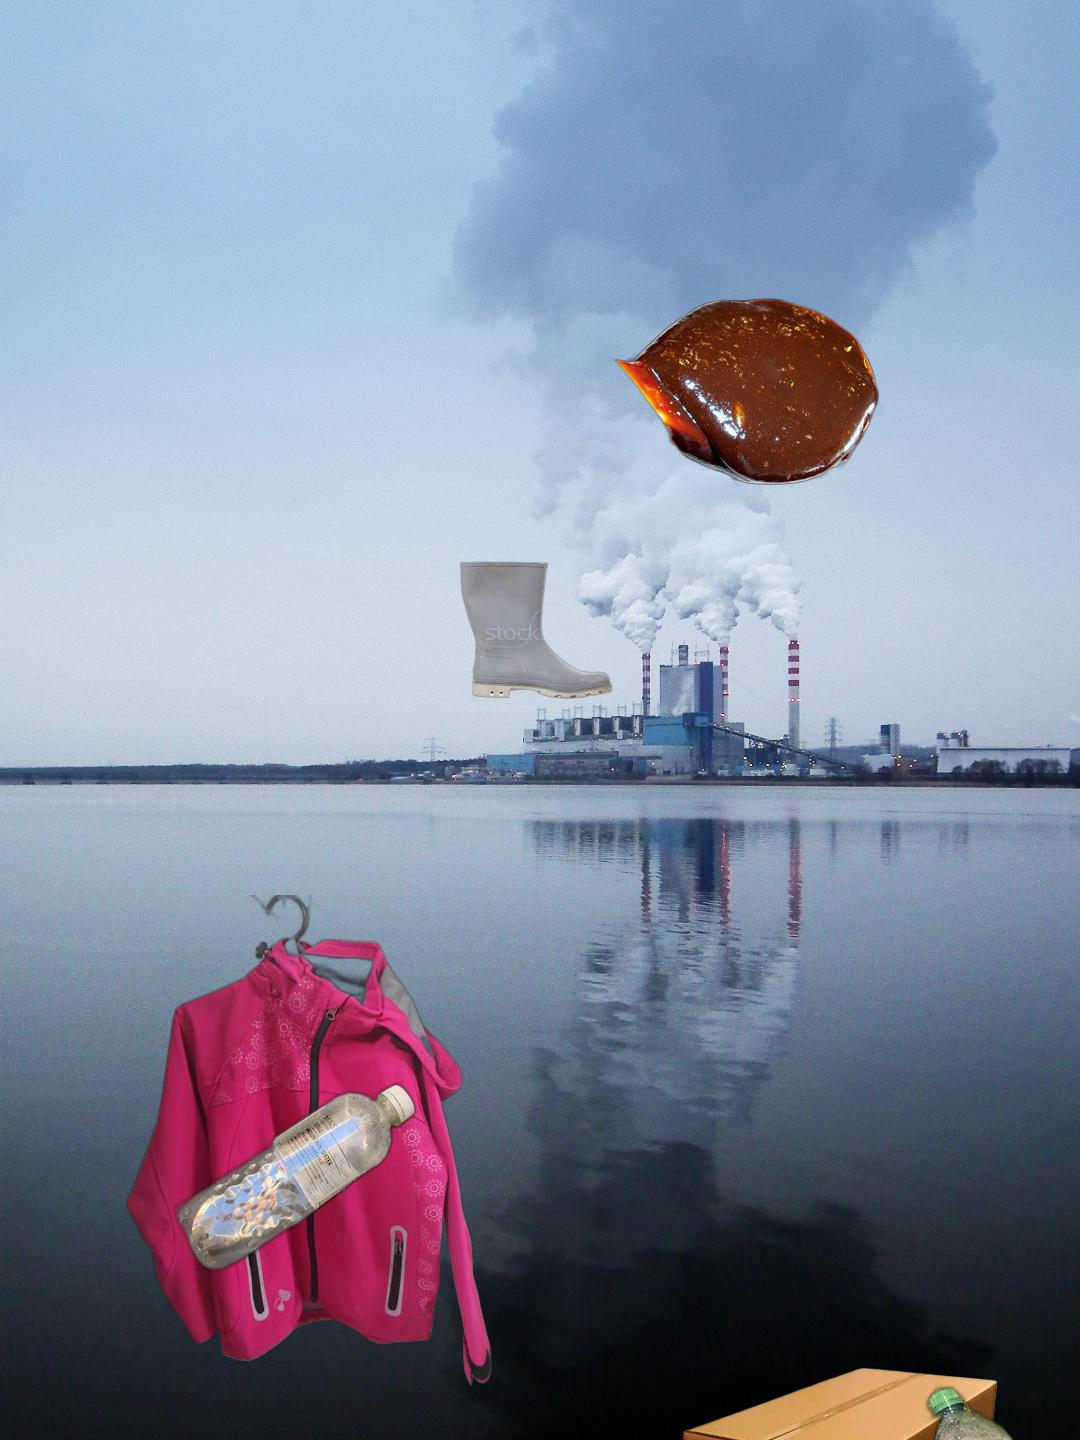biological: (599, 296, 886, 486)
clothes: (123, 895, 496, 1391)
plastic-bottles: (171, 703, 419, 1386), (922, 1381, 1080, 1440)
shoes: (458, 559, 615, 705)
trashbox-cardboard: (680, 1366, 999, 1440)
